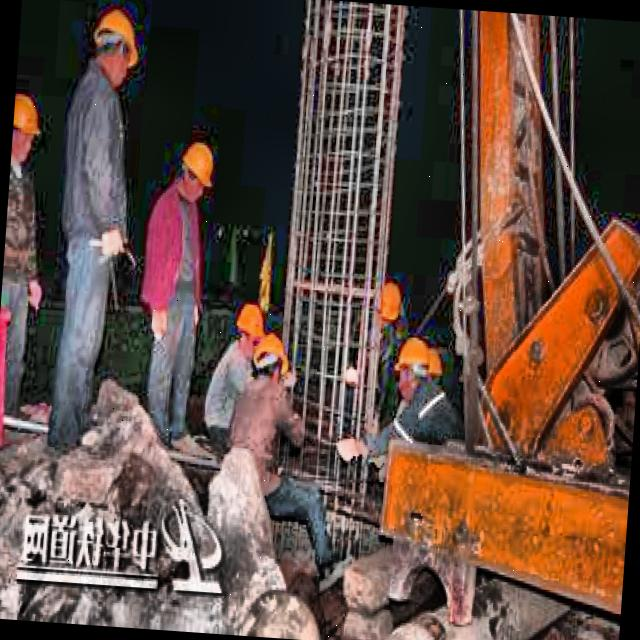helmet: (86, 0, 143, 92), (172, 136, 218, 206), (392, 336, 439, 399), (11, 86, 44, 172), (229, 298, 268, 361), (250, 334, 288, 388), (370, 282, 400, 334)
